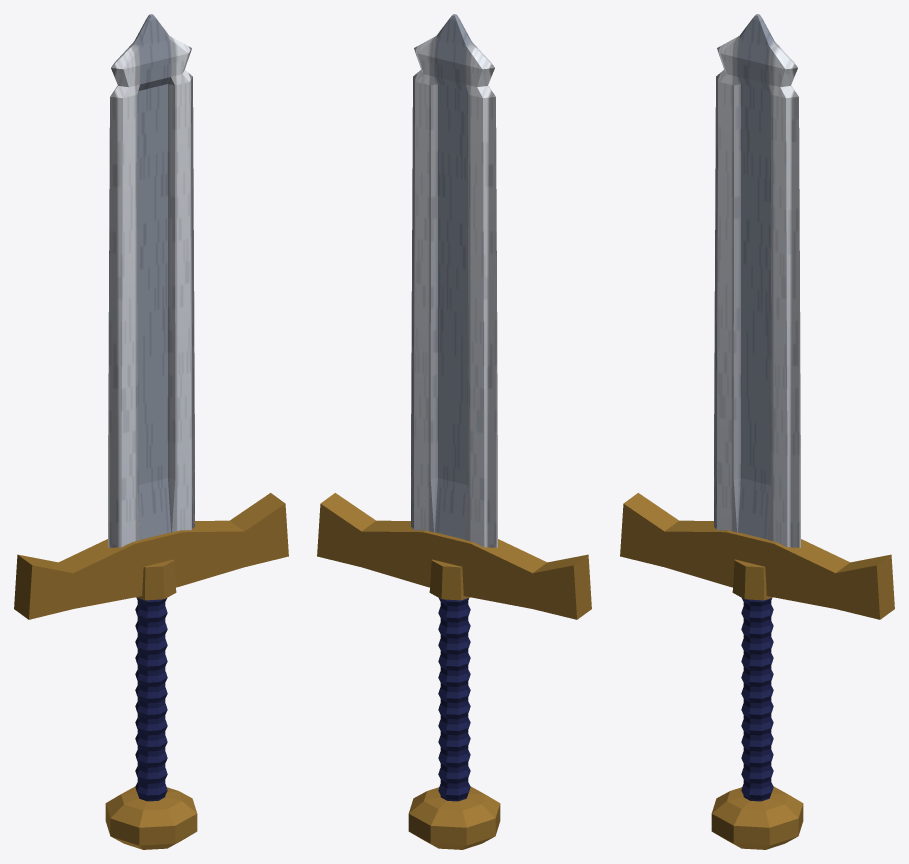
The model's file is knight_sword.obj.
3 renders of one model, left to right at view 1: azimuth 30°, elevation 25°; view 2: azimuth 150°, elevation 25°; view 3: azimuth 330°, elevation 25°, orthographic.
Visible parts, largest first — view 1: A_Blade.001_knight_sword_blade, B_Guard.001_knight_sword_fittings, C_Grip.001_knight_sword_grip, C_Pommel.001_knight_sword_fittings, B_Collar.001_knight_sword_fittings; view 2: A_Blade.001_knight_sword_blade, B_Guard.001_knight_sword_fittings, C_Grip.001_knight_sword_grip, C_Pommel.001_knight_sword_fittings, B_Collar.001_knight_sword_fittings; view 3: A_Blade.001_knight_sword_blade, B_Guard.001_knight_sword_fittings, C_Grip.001_knight_sword_grip, C_Pommel.001_knight_sword_fittings, B_Collar.001_knight_sword_fittings.
Part boxes in pixels (box(x1,y1,x2,y2)): A_Blade.001_knight_sword_blade: box(108, 14, 194, 547); B_Guard.001_knight_sword_fittings: box(14, 493, 288, 619); C_Grip.001_knight_sword_grip: box(135, 598, 167, 801); C_Pommel.001_knight_sword_fittings: box(105, 786, 197, 849); B_Collar.001_knight_sword_fittings: box(136, 559, 176, 600); A_Blade.001_knight_sword_blade: box(411, 14, 497, 547); B_Guard.001_knight_sword_fittings: box(317, 493, 591, 619); C_Grip.001_knight_sword_grip: box(438, 598, 470, 801); C_Pommel.001_knight_sword_fittings: box(408, 786, 500, 849); B_Collar.001_knight_sword_fittings: box(429, 559, 469, 600); A_Blade.001_knight_sword_blade: box(714, 14, 800, 547); B_Guard.001_knight_sword_fittings: box(620, 493, 894, 619); C_Grip.001_knight_sword_grip: box(741, 598, 773, 801); C_Pommel.001_knight_sword_fittings: box(711, 786, 803, 849); B_Collar.001_knight_sword_fittings: box(732, 559, 772, 600).
Bounding box in the file's own units: 1.52 × 4.63 × 0.48.
